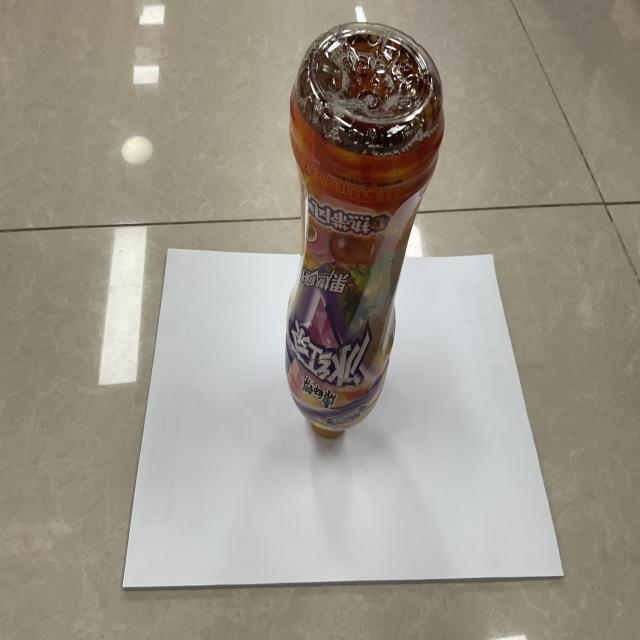chai: (288, 22, 442, 438)
